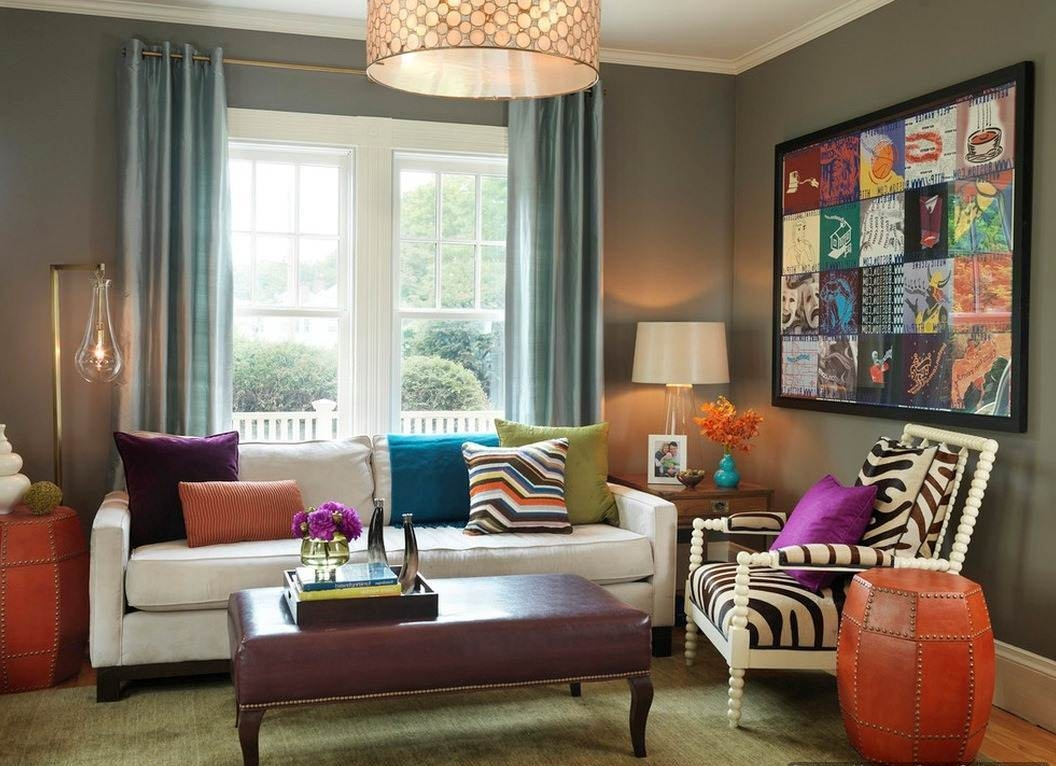biru: (390, 436, 470, 517), (713, 454, 741, 486)
coklat: (226, 577, 640, 764)
orange: (698, 402, 763, 446)
putih: (88, 491, 674, 624), (629, 321, 738, 385), (1, 423, 16, 514)
ungu: (116, 431, 237, 537), (780, 492, 869, 571), (294, 508, 361, 535)
